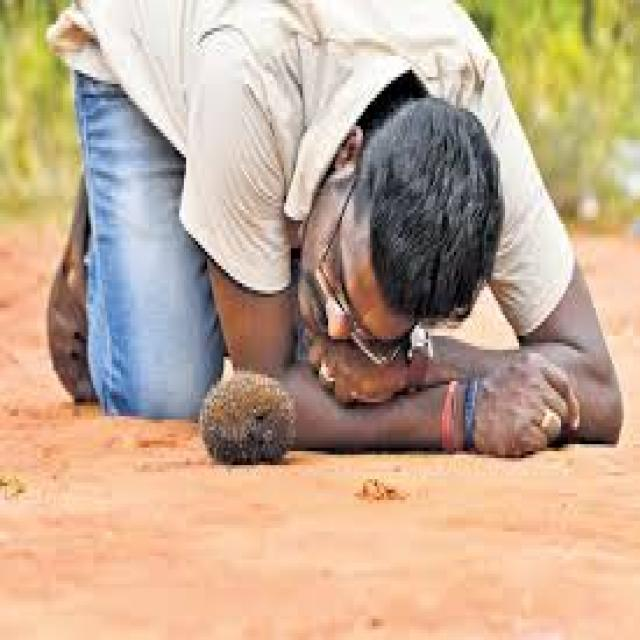rat: (44, 0, 622, 458), (198, 367, 295, 462)
